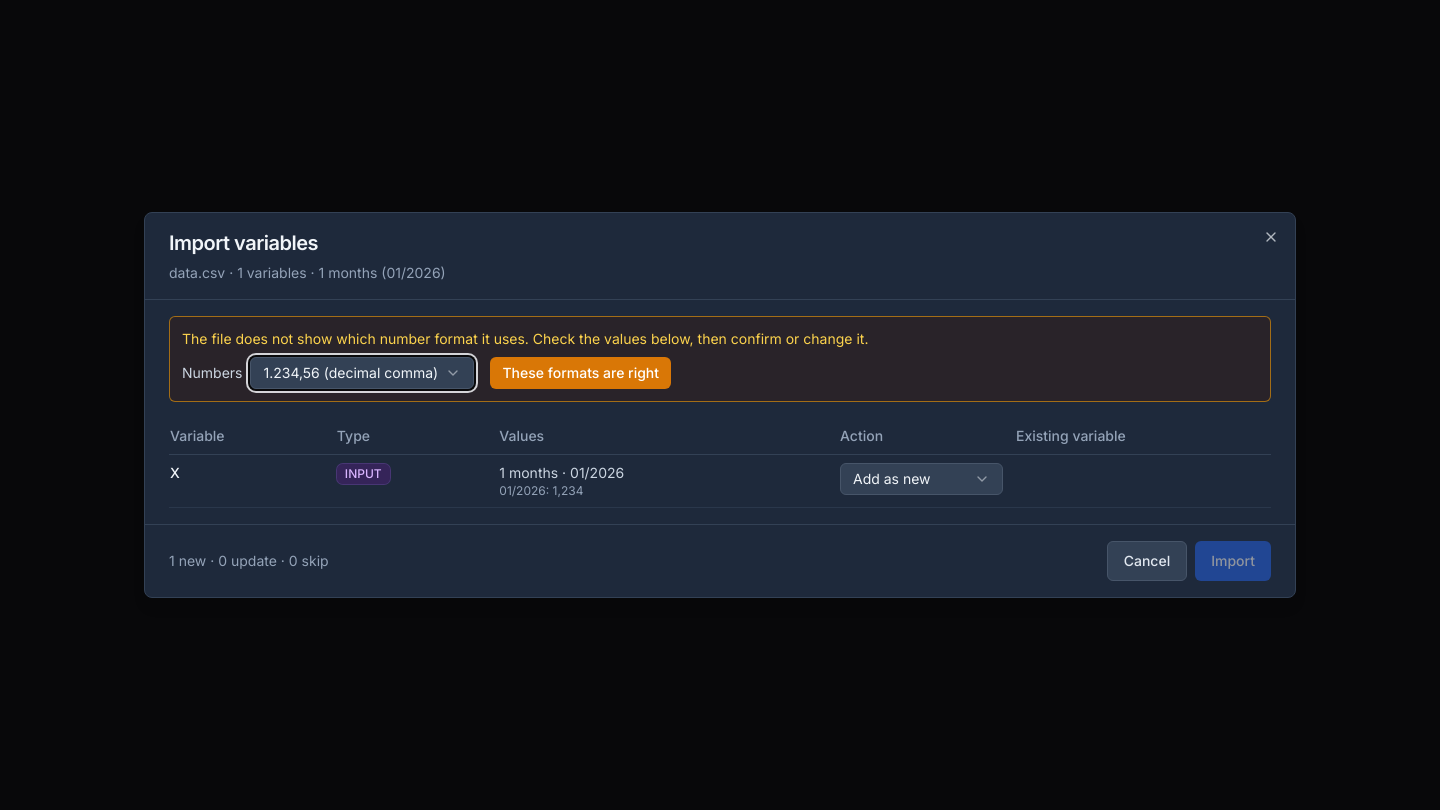
Test: ImportModal › asks to confirm an ambiguous number format before importing
Expected: the text with test id "format-question" shows "number format", [380, 330, 478, 347]
Expected: the button "Import" is disabled, [1195, 541, 1271, 581]
Step 1. Click the button "These formats are right" → (581, 373), box [490, 357, 671, 389]
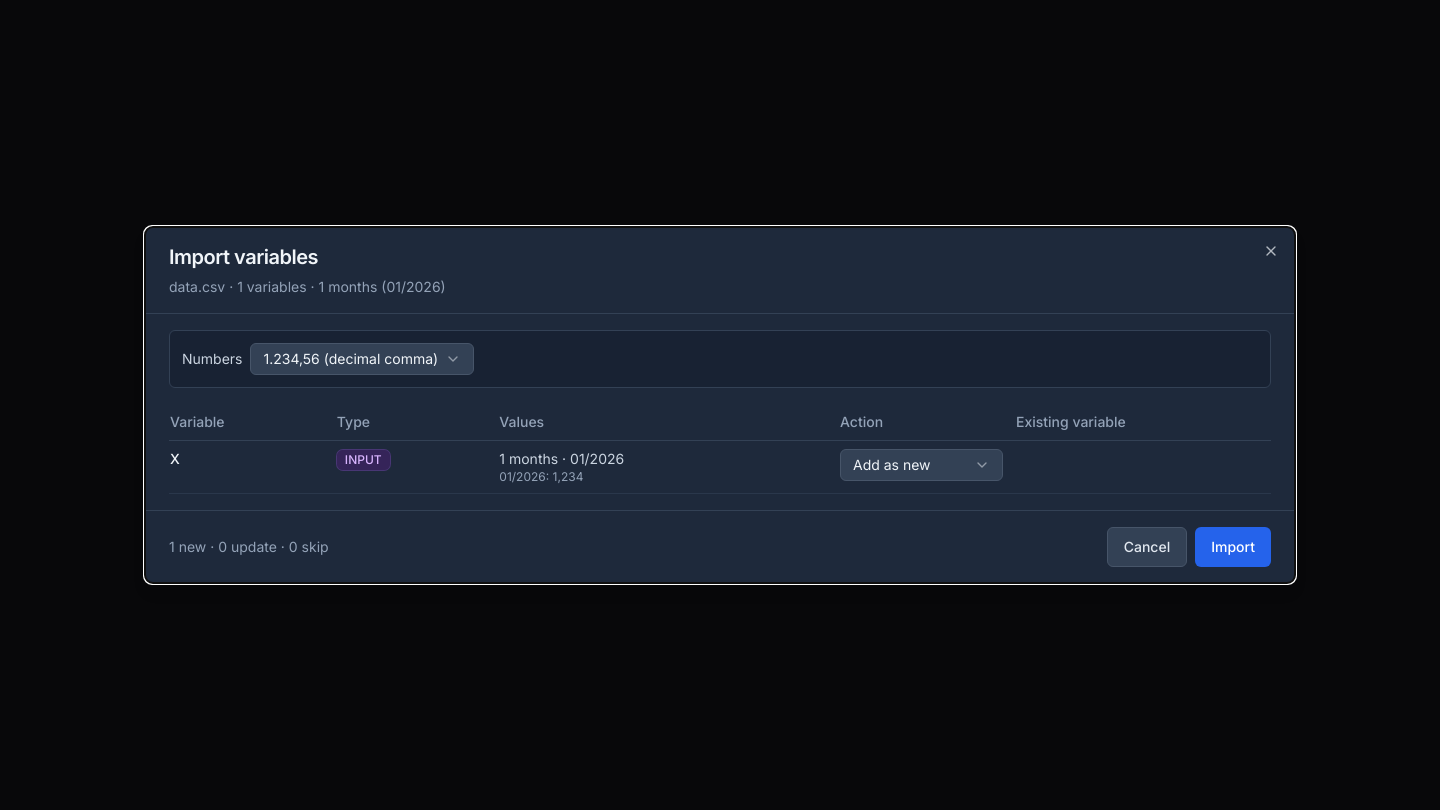
Now the text with test id "format-question" is gone
Now the button "Import" is enabled, box [1195, 527, 1271, 567]
